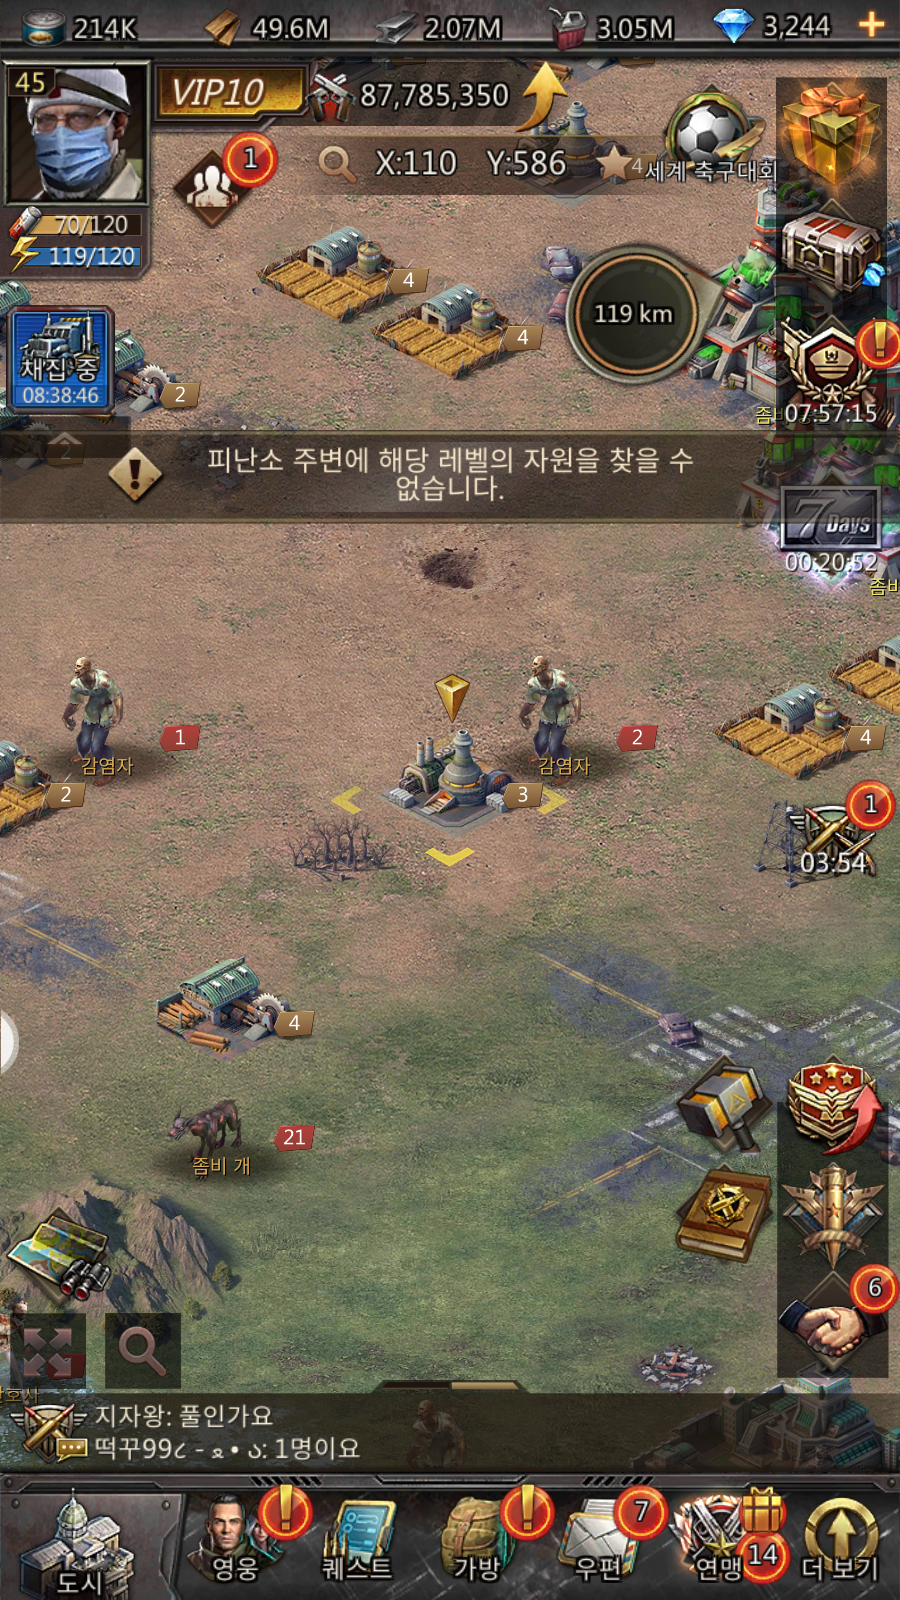city: (9, 1493, 175, 1600)
empty_steel: (316, 669, 607, 876)
not_found_rss: (85, 433, 747, 518)
open_panel: (102, 1309, 193, 1389)
troops_cnt_1: (165, 129, 289, 235)
